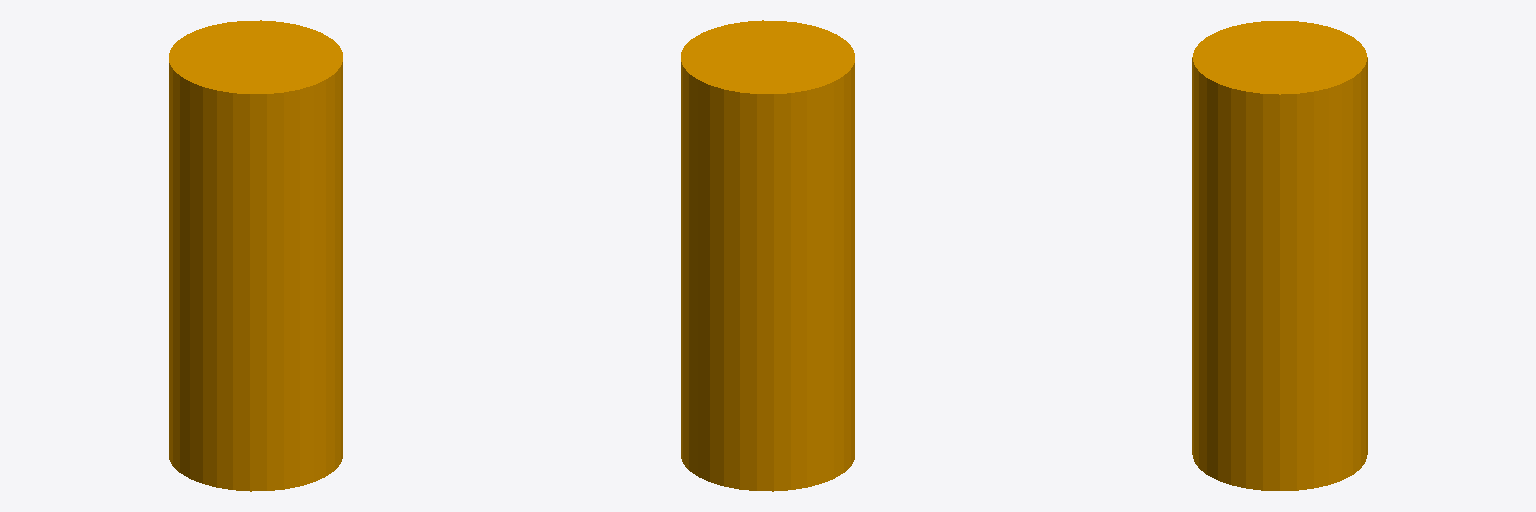
URDF robot description (cylinder_1):
<?xml version="1.0" ?> 
<robot name="cylinder_1">
   <link name="my_cylinder">

     <inertial>
       <mass value="0.8" />
       <inertia  ixx="0.1" ixy="0.0"  ixz="0.0"  iyy="0.1"  iyz="0.0"  izz="0.1" />
     </inertial>

     <visual>
       <geometry>
         <cylinder length="0.15" radius="0.03" />
       </geometry>
     </visual>

     <collision>
       <geometry>
         <cylinder length="0.15" radius="0.03" />
       </geometry>
       <surface>
         <friction>
           <ode>
             <mu>5.9</mu>
             <mu2>1.0</mu2>
	   </ode>
         </friction>
        </surface>
      </collision>

   </link>
   <gazebo reference="my_cylinder">
     <material>Gazebo/Blue</material>
   </gazebo>
 </robot>

--- Render facts (derived) ---
3 views of the same robot in one strip: view 1: azimuth 30°, elevation 25°; view 2: azimuth 150°, elevation 25°; view 3: azimuth 270°, elevation 25° (orthographic).
Model cylinder_1 with 1 links and 0 joints (none), rooted at my_cylinder, posed every joint at zero.
Links seen in each view (by area): view 1: my_cylinder; view 2: my_cylinder; view 3: my_cylinder.
Boxes of the visible links, left/top/right/bottom form: my_cylinder: left=169, top=20, right=342, bottom=491; my_cylinder: left=681, top=20, right=854, bottom=491; my_cylinder: left=1192, top=21, right=1367, bottom=490.
Bounding box of the posed robot: 0.06 × 0.06 × 0.15 m (x, y, z).
Geometry: primitives only (box / cylinder / sphere), no mesh files.